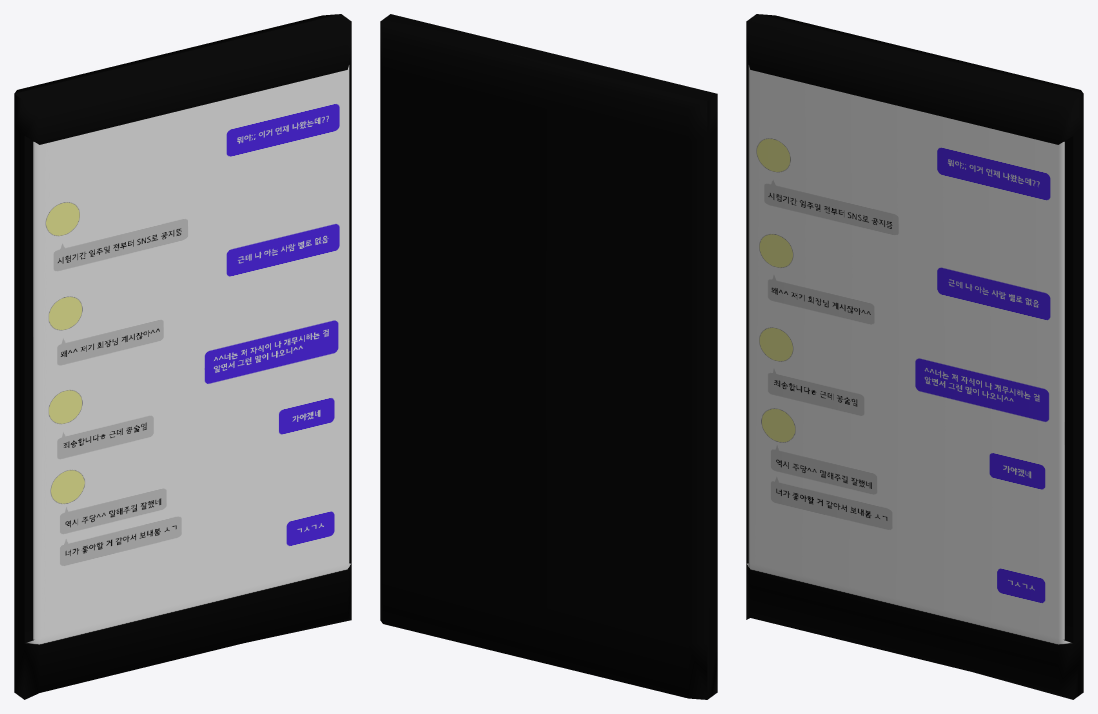
Rendered from Phone2.fbx.
3 views of the same model, side by side, from view 1: azimuth 30°, elevation 25°; view 2: azimuth 150°, elevation 25°; view 3: azimuth 330°, elevation 25° (orthographic).
Visible parts, largest first — view 1: pCube1; view 2: pCube1; view 3: pCube1.
Part boxes in pixels (x1,y1,x2,y2): pCube1: (14, 14, 351, 699); pCube1: (380, 14, 717, 699); pCube1: (746, 14, 1083, 699).
Bounding box in the file's own units: 1.04 × 1.83 × 0.1321.
3 materials, 2 textured.
